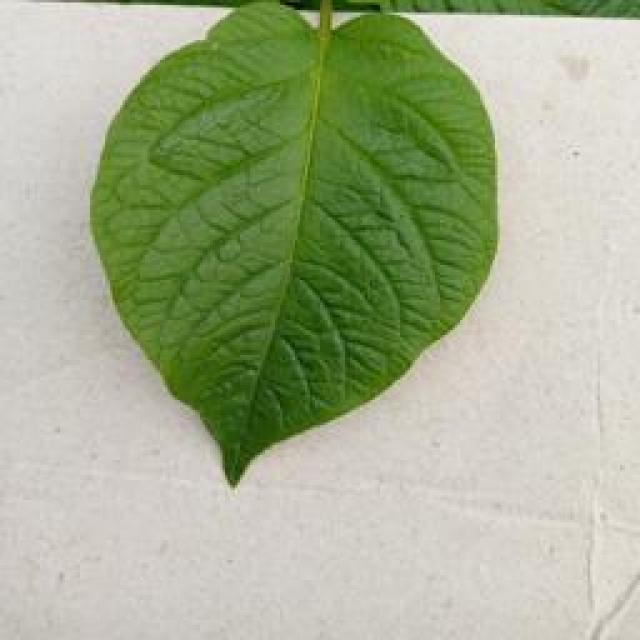healthy: (82, 0, 502, 490)
